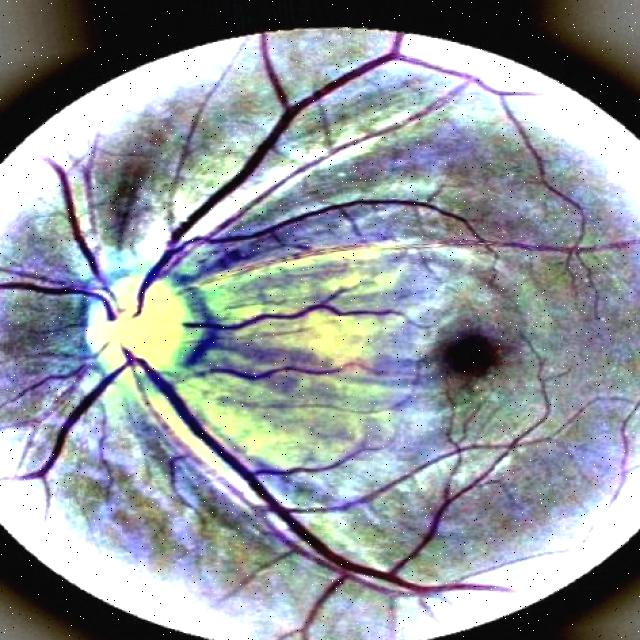Macula: (445, 334, 499, 376)
